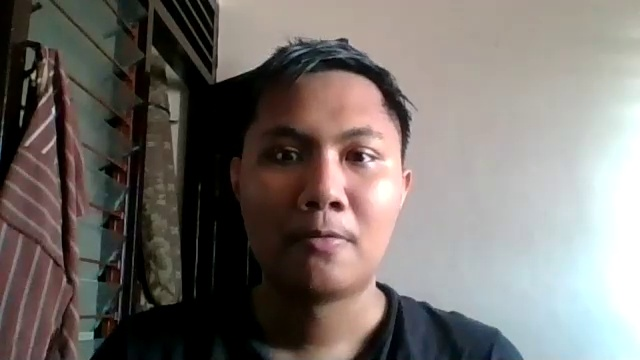Not Distracted: (221, 70, 420, 297)
